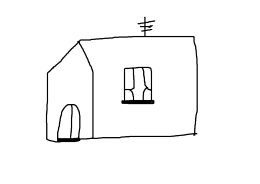door: (49, 101, 85, 146)
open_window: (119, 60, 156, 114)
single_line_roof: (44, 34, 204, 79)
wall: (39, 39, 100, 149)
